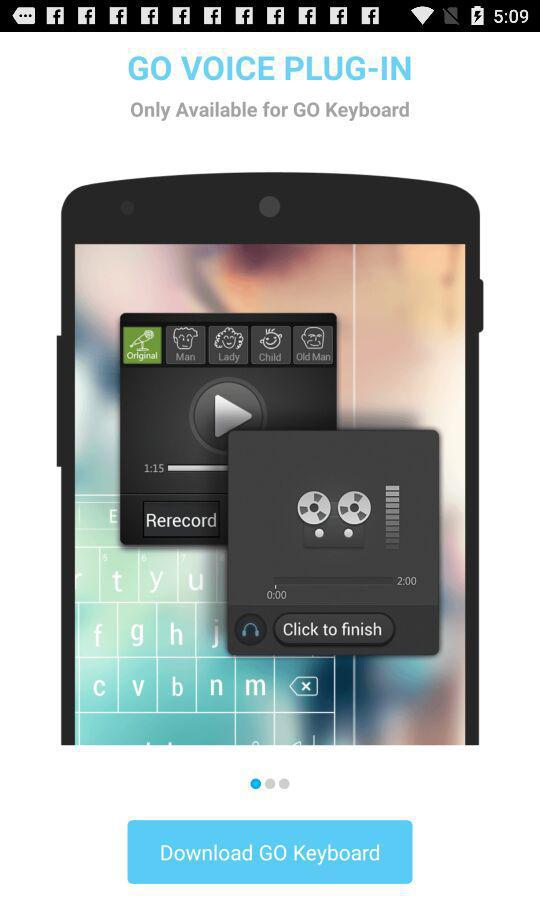Image: (56, 172, 483, 746)
PageIndicator: (249, 777, 291, 791)
Text: (129, 56, 412, 82), (131, 100, 410, 123)
TextButton: (128, 820, 413, 884)
UpperTaskBar: (1, 1, 540, 33)
